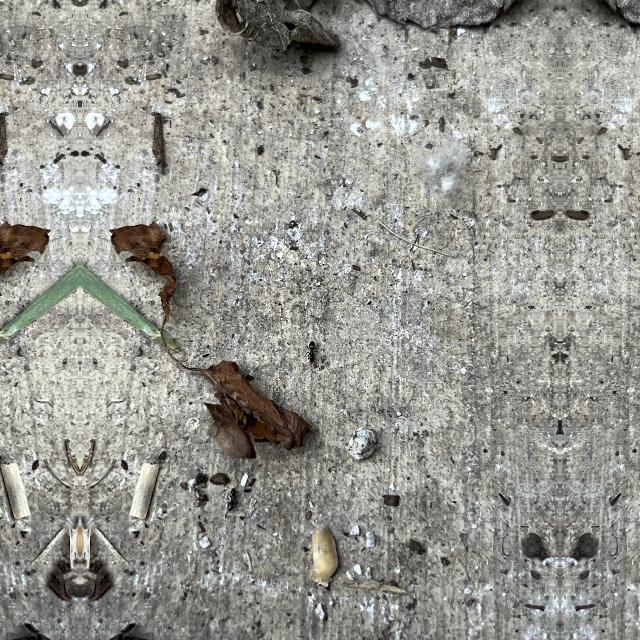Tapinoma: (302, 336, 318, 369)
